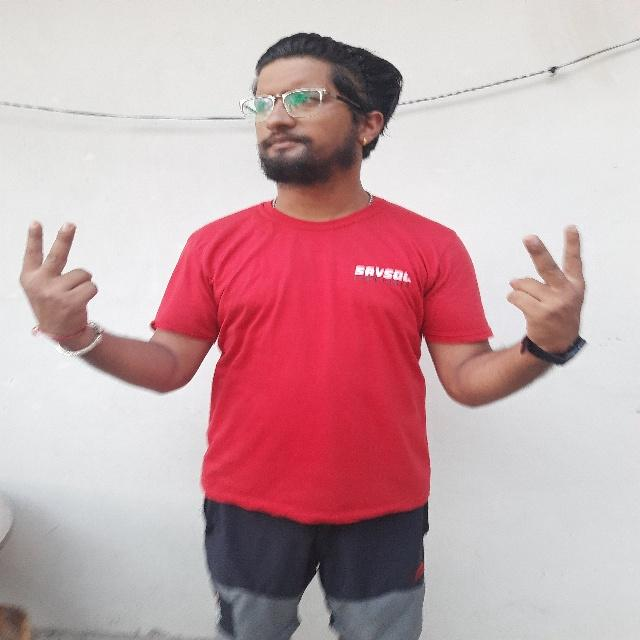Reversed Victory: (12, 208, 110, 354), (497, 223, 592, 364)
